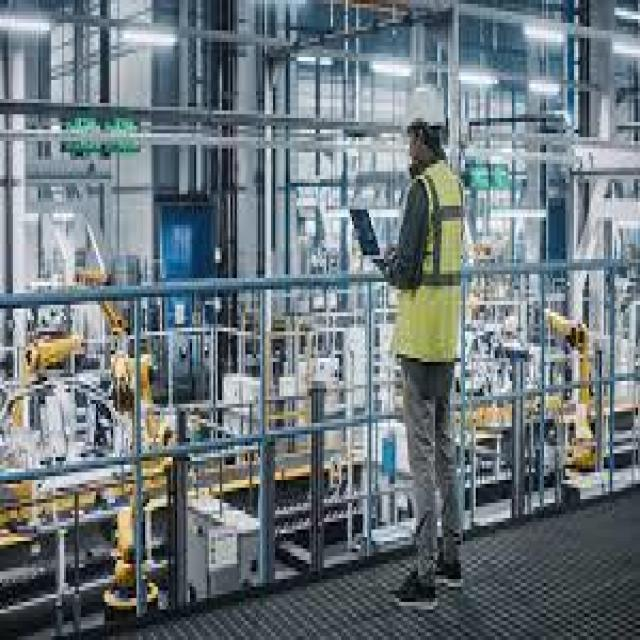safety_helmet: (395, 158, 469, 369)
